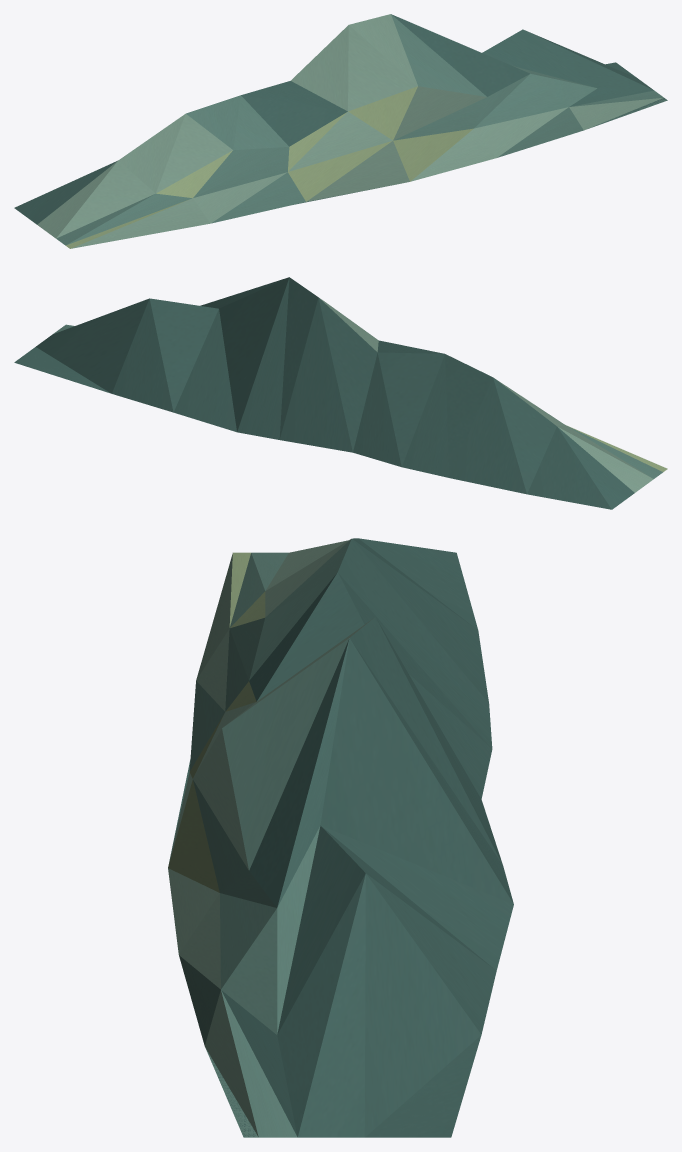
Rendered from 07_left_ridge_facets.obj.
The picture shows the model from 3 angles, top to bottom: view 1: azimuth 30°, elevation 25°; view 2: azimuth 150°, elevation 25°; view 3: azimuth 270°, elevation 25°; orthographic projection. The views are drawn at different scales.
Visible parts, largest first — view 1: Mountain_Near; view 2: Mountain_Near; view 3: Mountain_Near.
Boxes of the visible parts, <box> form: Mountain_Near: <box>14,14,667,248</box>; Mountain_Near: <box>14,277,667,509</box>; Mountain_Near: <box>168,538,513,1137</box>.
Size of the model in its own units: 12.8 by 2.61 by 3.2.
Materials: 1 (1 with a texture image).
